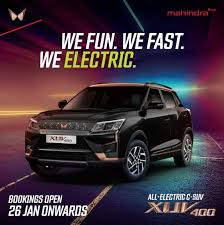XUV 400: (23, 81, 194, 180)
